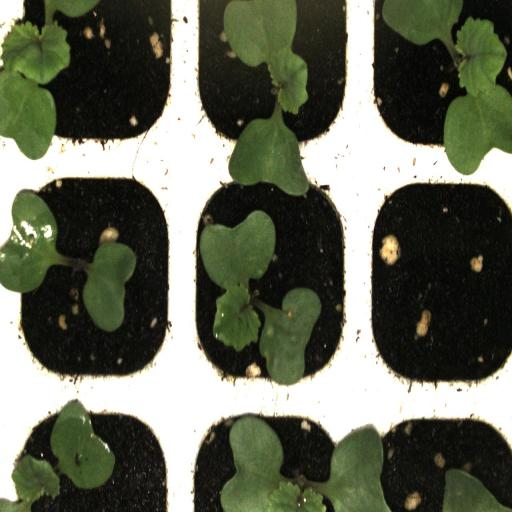noseedling: (359, 159, 512, 392)
seedling: (9, 156, 184, 395), (181, 157, 358, 393), (185, 0, 360, 157), (8, 0, 184, 154), (360, 0, 512, 158), (181, 392, 360, 512)
